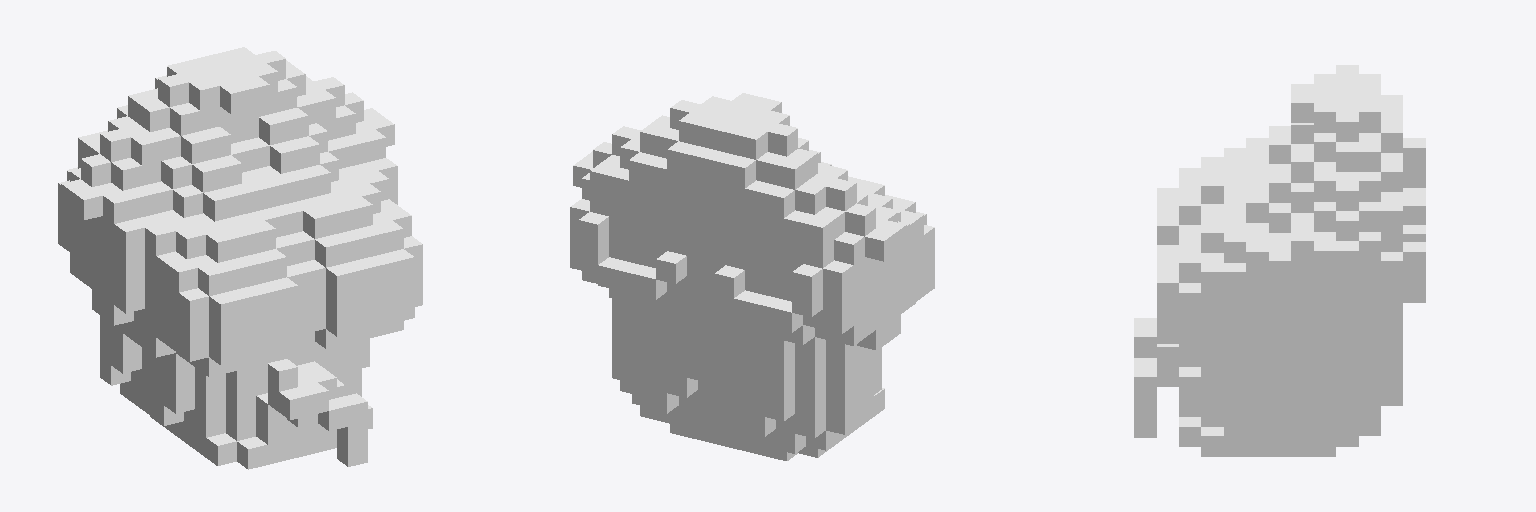
The model's file is Brunette-13.obj.
3 renders of one model, left to right at view 1: azimuth 30°, elevation 25°; view 2: azimuth 150°, elevation 25°; view 3: azimuth 270°, elevation 25°, orthographic.
Parts seen in each view (by area): view 1: object 1; view 2: object 1; view 3: object 1.
Part boxes in pixels (x1,y1,x2,y2): object 1: (58, 47, 422, 469); object 1: (570, 93, 934, 460); object 1: (1134, 65, 1425, 456).
Bounding box in the file's own units: 1.6 × 1.6 × 1.3.